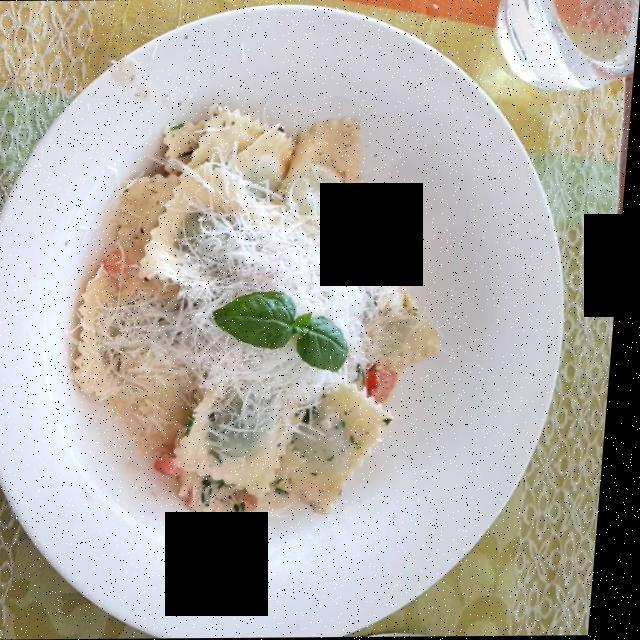cheese: (108, 156, 389, 433)
